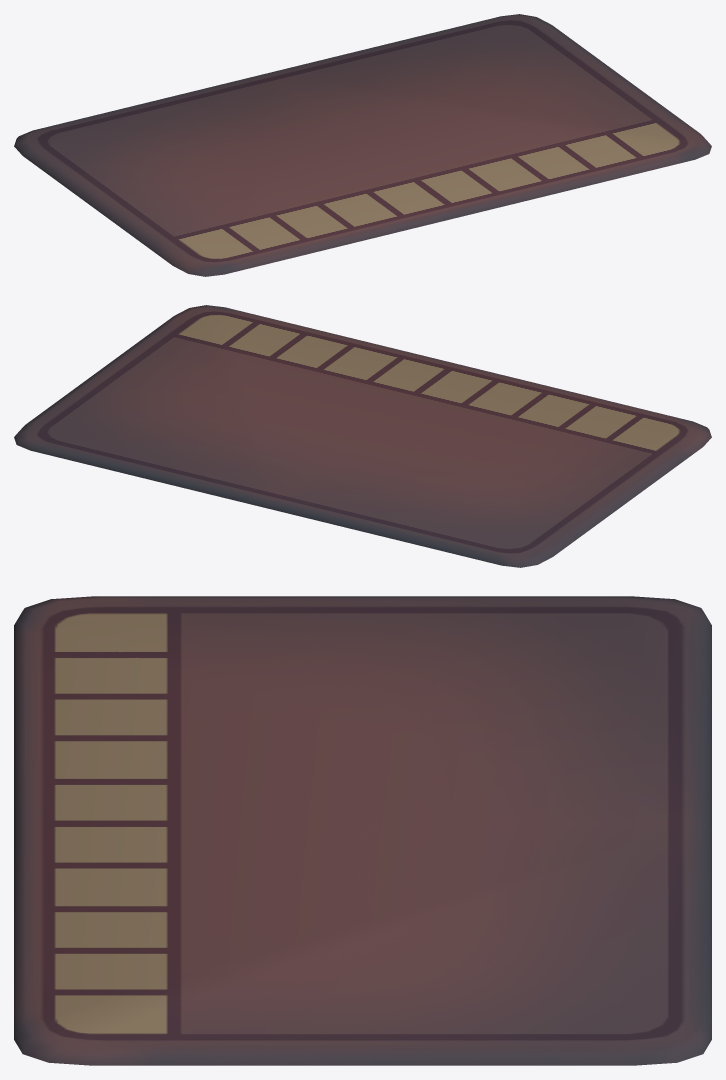
File: scenes_around_carpet01.FBX
The picture shows the model from 3 angles, top to bottom: view 1: azimuth 30°, elevation 25°; view 2: azimuth 150°, elevation 25°; view 3: azimuth 270°, elevation 25°; orthographic projection. The views are drawn at different scales.
Visible parts, largest first — view 1: scenes_around_carpet01; view 2: scenes_around_carpet01; view 3: scenes_around_carpet01.
Boxes of the visible parts, box(x1,y1,x2,y2) form: scenes_around_carpet01: box(14, 14, 711, 276); scenes_around_carpet01: box(14, 305, 711, 567); scenes_around_carpet01: box(14, 596, 711, 1065).
Bounding box in the file's own units: 31173 × 274 × 19719.
